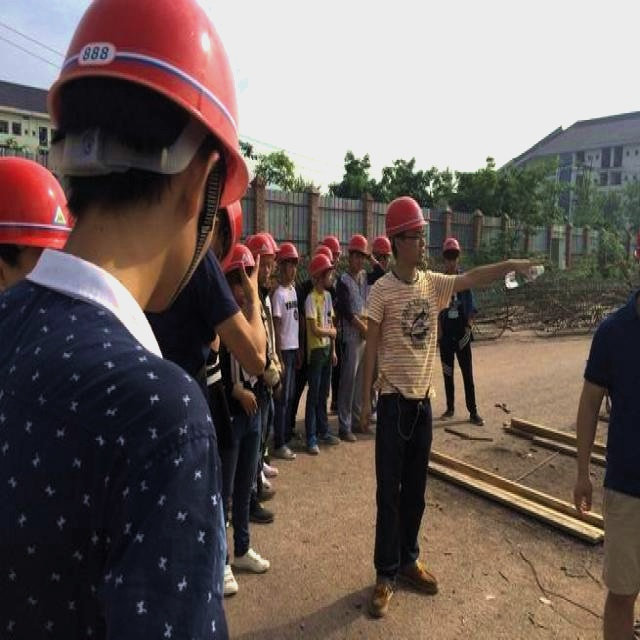Con_Casco: (47, 0, 249, 282), (385, 194, 427, 274), (443, 235, 459, 272)
Sin_Chaleco: (371, 273, 441, 403)
